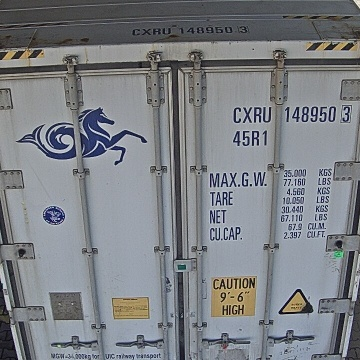serial_id: (234, 105, 352, 122)
